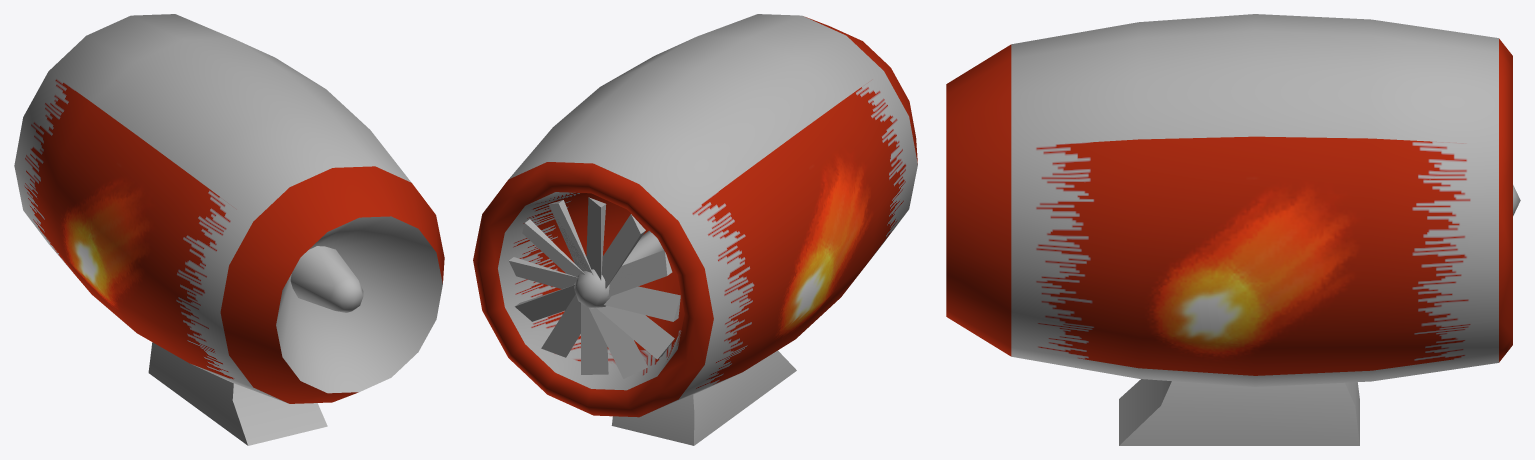
Rendered from JetEngine.obj.
3 views of the same model, side by side, from view 1: azimuth 30°, elevation 25°; view 2: azimuth 150°, elevation 25°; view 3: azimuth 270°, elevation 25° (orthographic). The views are drawn at different scales.
Parts seen in each view (by area): view 1: Handle; view 2: Handle, Propeller; view 3: Handle.
Boxes of the visible parts, x1=… form: Handle: x1=14, y1=14, x2=444, y2=445; Handle: x1=473, y1=14, x2=917, y2=445; Propeller: x1=509, y1=197, x2=680, y2=378; Handle: x1=946, y1=14, x2=1512, y2=445.
Size of the model in its own units: 7.78 by 9 by 11.97.
2 materials, 1 textured.
